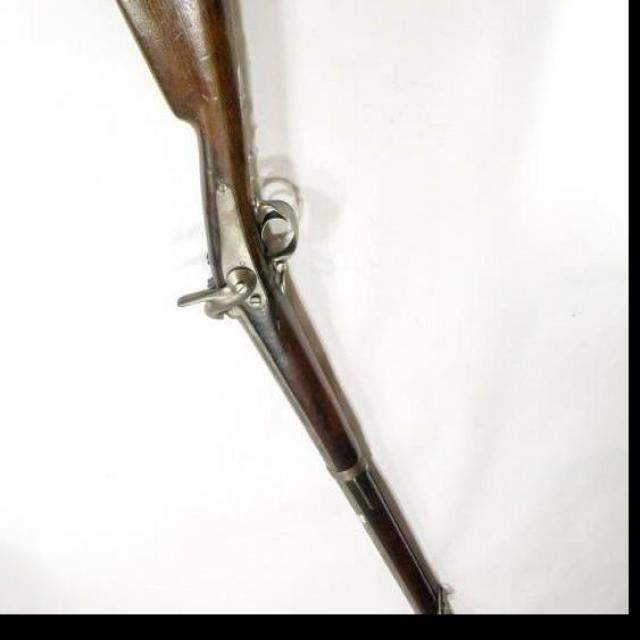weapon: (116, 0, 454, 614)
